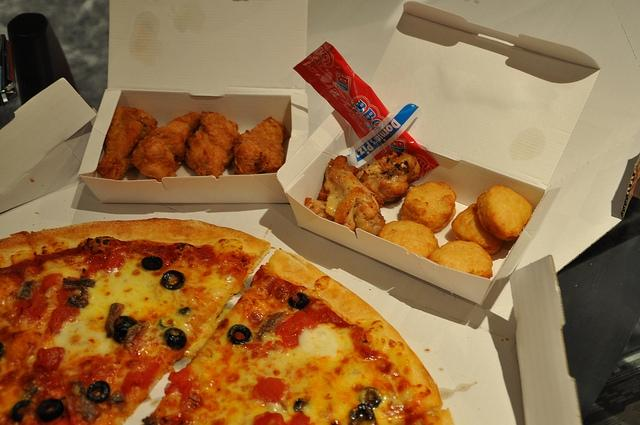tomato: (6, 292, 46, 328), (121, 364, 161, 394), (168, 367, 200, 403), (274, 311, 318, 336), (251, 376, 285, 406), (49, 306, 79, 334), (253, 412, 311, 425), (34, 347, 64, 372), (40, 274, 64, 292), (104, 250, 125, 270)
